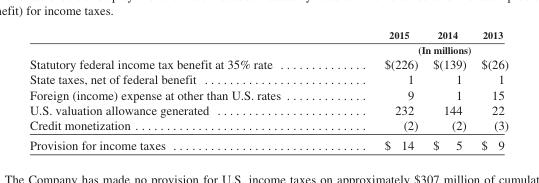table: (28, 28, 507, 151)
table column: (28, 28, 331, 151), (331, 28, 424, 151), (424, 28, 473, 151), (473, 28, 507, 151)
table column header: (28, 28, 507, 56)
table row: (28, 117, 507, 134), (28, 134, 507, 151), (28, 101, 507, 117), (28, 41, 507, 56), (28, 56, 507, 71), (28, 71, 507, 86), (28, 86, 507, 101), (28, 28, 507, 41)
table spanning cell: (331, 41, 507, 56)
